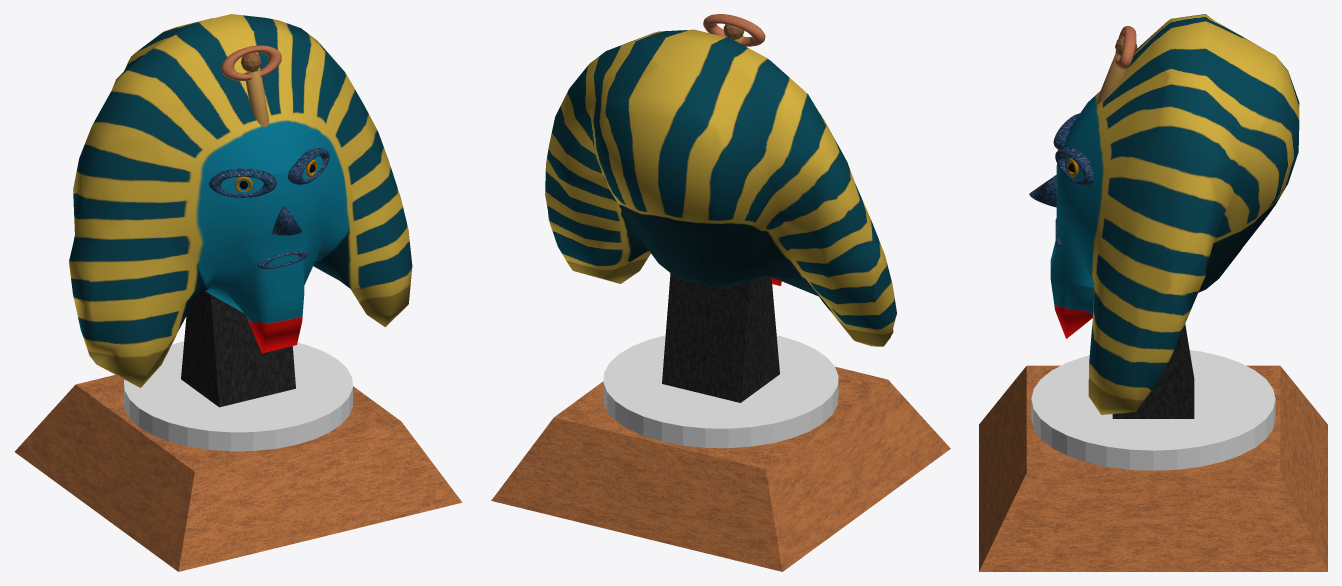
The model's file is Sfinx 2.0.fbx.
3 views of the same model, side by side, from view 1: azimuth 30°, elevation 25°; view 2: azimuth 150°, elevation 25°; view 3: azimuth 270°, elevation 25° (orthographic). The views are drawn at different scales.
Parts seen in each view (by area): view 1: Mball.006, Cube, Cylinder, Kubus, Torus.005, Torus.001, Cylinder.001, Torus; view 2: Mball.006, Cube, Cylinder, Kubus, Torus.005; view 3: Mball.006, Cube, Cylinder, Kubus, Torus, Cylinder.001, Torus.005, Kegel.
Boxes of the visible parts, x1,y1,x2,y2 form: Mball.006: (69, 14, 412, 387); Cube: (14, 375, 462, 571); Cylinder: (124, 341, 352, 451); Kubus: (181, 291, 295, 407); Torus.005: (221, 45, 281, 80); Torus.001: (209, 168, 276, 197); Cylinder.001: (244, 70, 268, 127); Torus: (287, 148, 329, 184); Mball.006: (545, 29, 896, 346); Cube: (491, 366, 950, 571); Cylinder: (603, 335, 838, 448); Kubus: (662, 273, 779, 402); Torus.005: (703, 14, 765, 46); Mball.006: (1050, 14, 1299, 414); Cube: (979, 365, 1327, 571); Cylinder: (1031, 350, 1275, 470); Kubus: (1112, 324, 1194, 418); Torus: (1055, 147, 1093, 185); Cylinder.001: (1095, 52, 1128, 104); Torus.005: (1115, 26, 1136, 69); Kegel: (1029, 175, 1056, 207).
Bounding box in the file's own units: 457 × 593 × 400.
